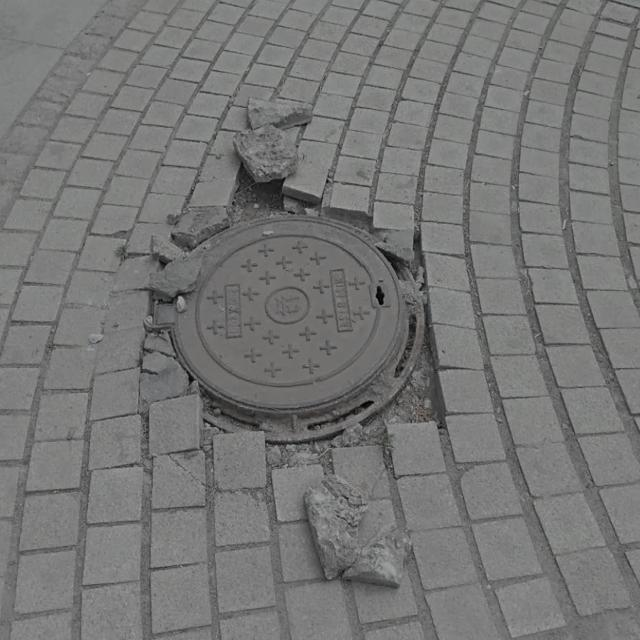circle: (102, 147, 474, 495)
